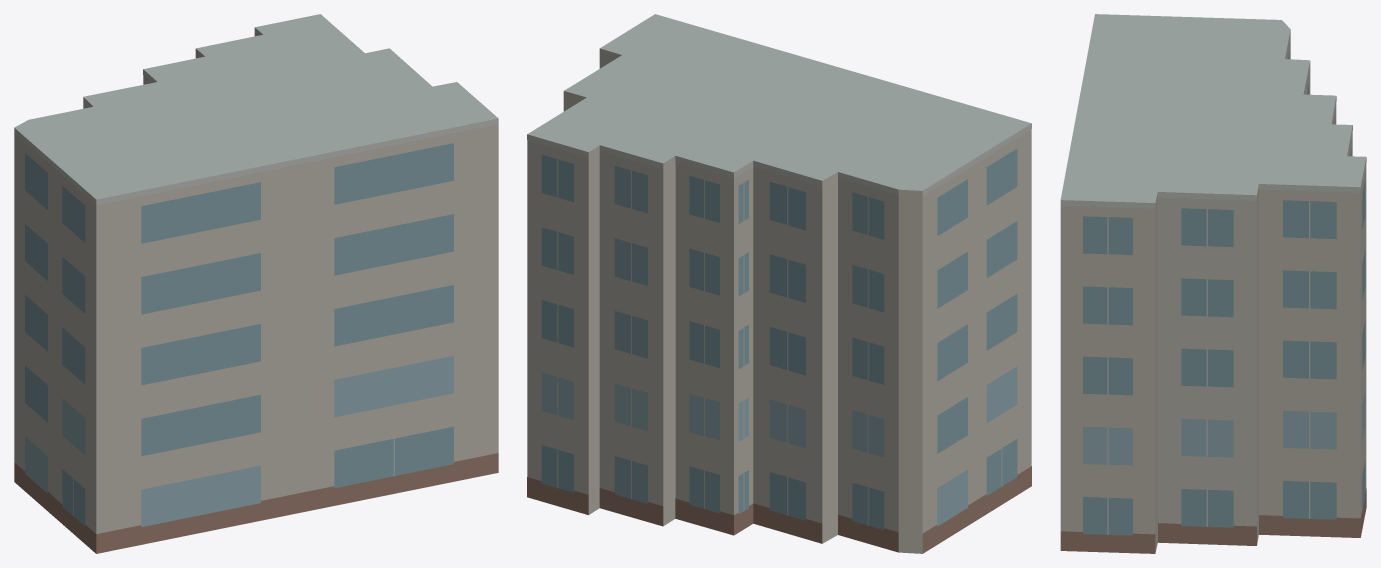
File: survey-upis-32616946.glb
3 renders of one model, left to right at view 1: azimuth 30°, elevation 25°; view 2: azimuth 150°, elevation 25°; view 3: azimuth 270°, elevation 25°, orthographic. The views are drawn at different scales.
Parts seen in each view (by area): view 1: survey-upis-32616946.tmp; view 2: survey-upis-32616946.tmp; view 3: survey-upis-32616946.tmp.
Boxes of the visible parts, x1=… form: survey-upis-32616946.tmp: x1=14, y1=14, x2=498, y2=553; survey-upis-32616946.tmp: x1=527, y1=14, x2=1031, y2=553; survey-upis-32616946.tmp: x1=1060, y1=14, x2=1366, y2=553.
Size of the model in its own units: 17.58 by 15.2 by 12.02.
